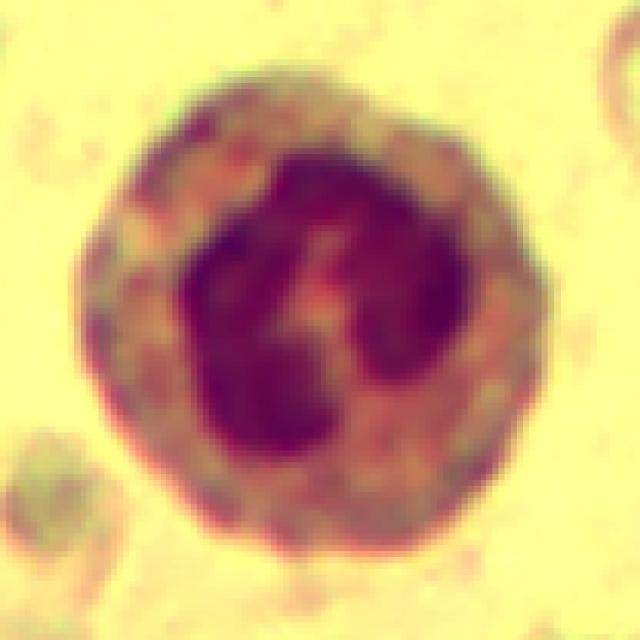WBC: (56, 56, 578, 571)
